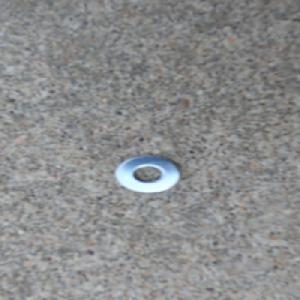Washer: (111, 153, 185, 196)
